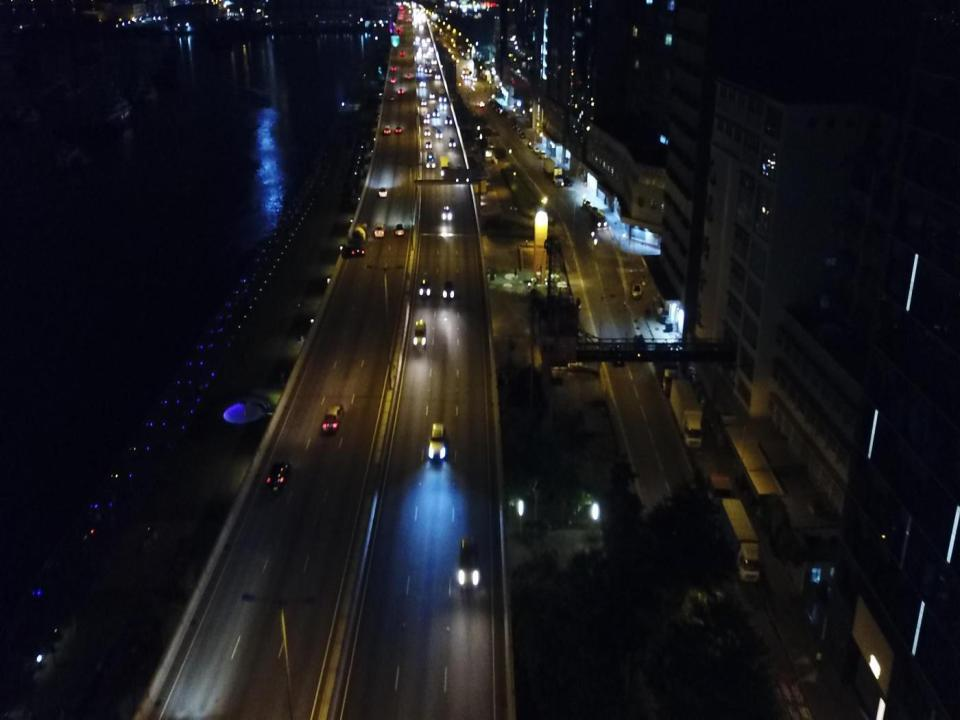bus: (590, 210, 606, 227), (426, 153, 435, 168)
car: (268, 460, 292, 490), (322, 403, 344, 432), (428, 424, 445, 461), (414, 321, 427, 347), (444, 280, 454, 300), (420, 278, 430, 295), (632, 283, 642, 300), (442, 206, 452, 220), (395, 223, 404, 236), (379, 186, 387, 198), (562, 176, 570, 188), (449, 137, 455, 147), (395, 126, 402, 134), (446, 115, 452, 124), (384, 125, 390, 134), (436, 130, 442, 138), (433, 108, 439, 116), (440, 103, 446, 110), (429, 91, 435, 98), (421, 99, 427, 106), (534, 147, 539, 155), (425, 142, 431, 148), (424, 129, 430, 135), (406, 73, 412, 79), (420, 81, 426, 87), (431, 58, 437, 64), (528, 142, 533, 149), (398, 89, 404, 94), (435, 74, 440, 80), (418, 65, 423, 71), (520, 132, 525, 138), (517, 128, 522, 134), (390, 78, 395, 83), (391, 66, 396, 71), (400, 51, 405, 56), (423, 118, 429, 122), (514, 125, 518, 130)
truck: (721, 498, 760, 583), (693, 447, 732, 511), (670, 378, 702, 449), (654, 342, 678, 394), (352, 220, 368, 257), (542, 158, 563, 186), (440, 154, 449, 176), (424, 59, 432, 73), (439, 88, 446, 102)
van: (458, 536, 479, 588), (610, 340, 624, 366), (375, 222, 385, 238), (539, 149, 546, 158)
